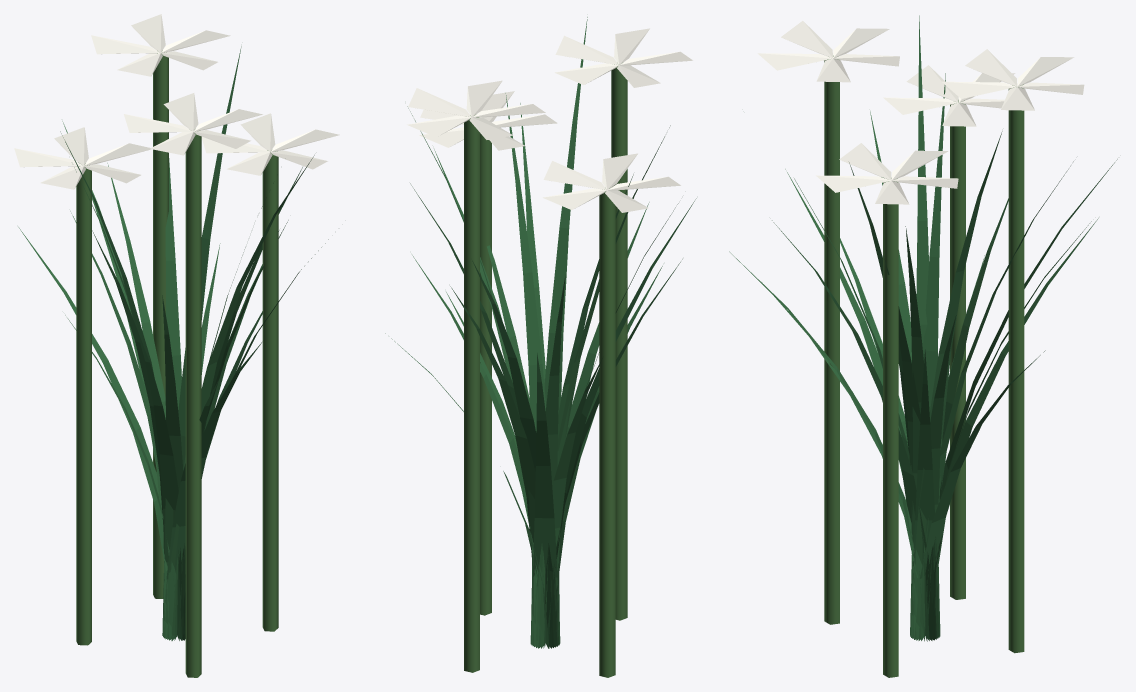
The model's file is zephyranthes-candida.glb.
3 renders of one model, left to right at view 1: azimuth 30°, elevation 25°; view 2: azimuth 150°, elevation 25°; view 3: azimuth 270°, elevation 25°, orthographic. The views are drawn at different scales.
Visible parts, largest first — view 1: Lily flower stems, Zephyr lily strap leaves, Lily flowers; view 2: Lily flower stems, Zephyr lily strap leaves, Lily flowers; view 3: Lily flower stems, Zephyr lily strap leaves, Lily flowers.
Boxes of the visible parts, left/top/right/bottom form: Lily flower stems: left=76, top=50, right=278, bottom=677; Zephyr lily strap leaves: left=18, top=46, right=328, bottom=640; Lily flowers: left=14, top=14, right=339, bottom=189; Lily flower stems: left=464, top=64, right=627, bottom=677; Zephyr lily strap leaves: left=385, top=17, right=696, bottom=648; Lily flowers: left=407, top=28, right=692, bottom=212; Lily flower stems: left=824, top=55, right=1024, bottom=677; Zephyr lily strap leaves: left=729, top=15, right=1117, bottom=641; Lily flowers: left=757, top=21, right=1084, bottom=204.
Size of the model in its own units: 0.1508 by 0.2892 by 0.1811.
